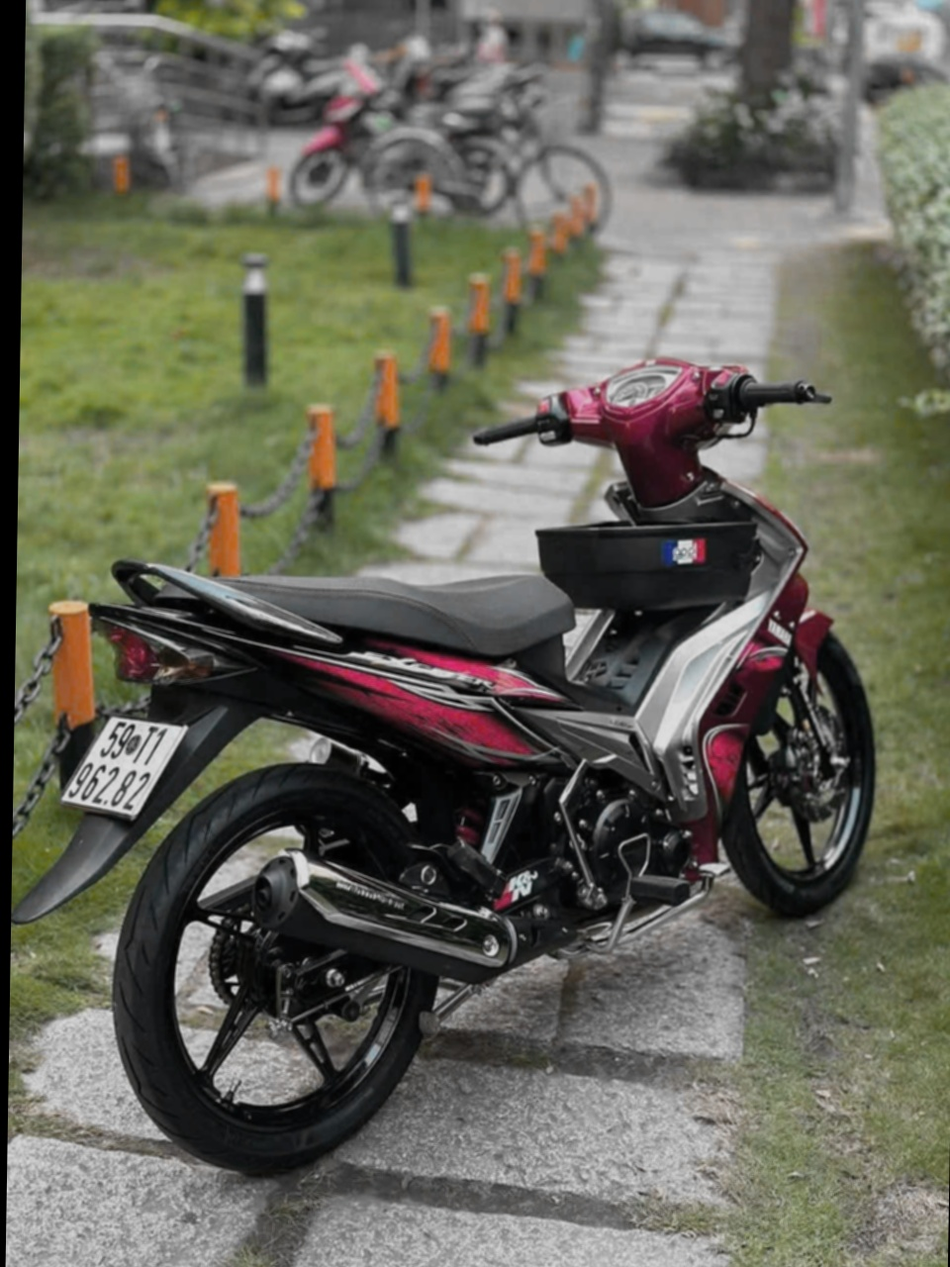Bien-so: (53, 718, 174, 818)
